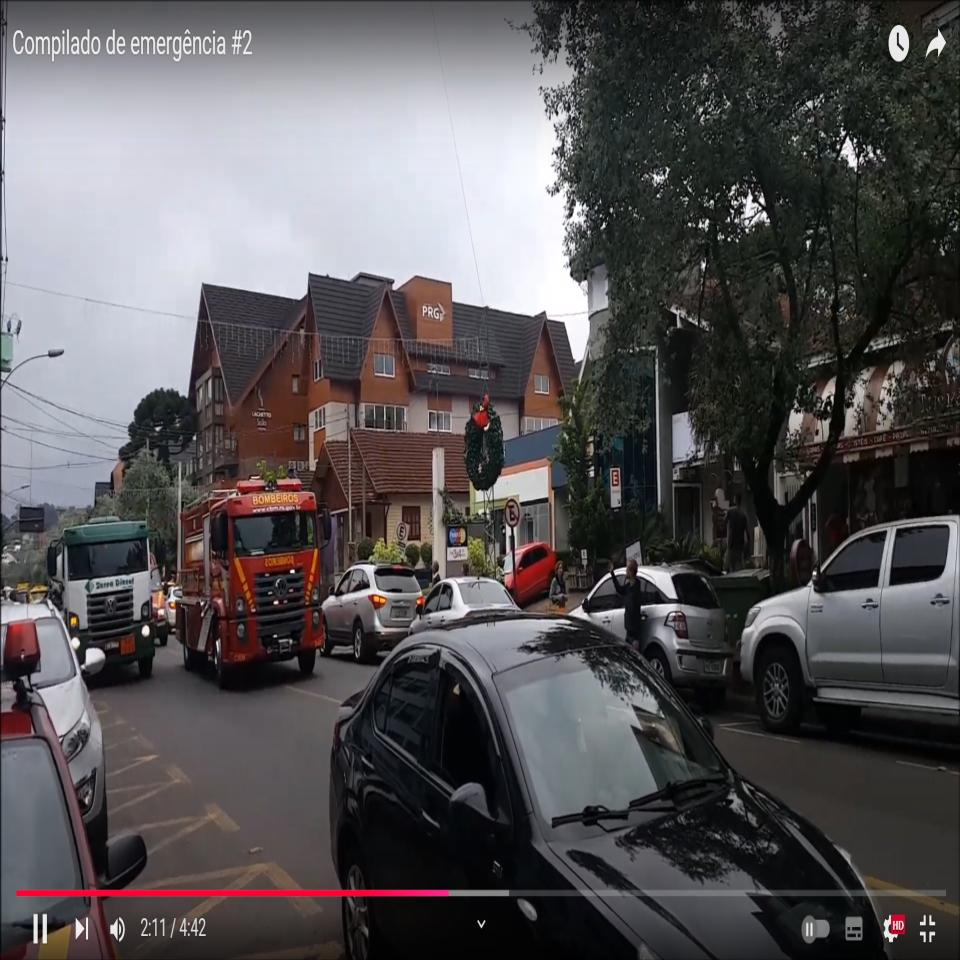viatura: (177, 466, 333, 690)
